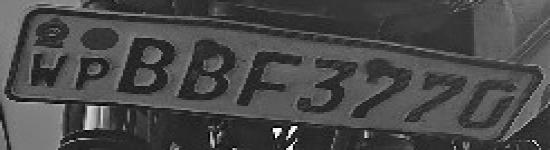0: (460, 78, 519, 134)
3: (300, 51, 360, 122)
7: (359, 57, 412, 125), (410, 70, 468, 132)
B: (178, 36, 236, 102), (114, 34, 176, 94)
F: (240, 41, 299, 115)
P: (74, 52, 112, 94)
W: (26, 48, 72, 92)
